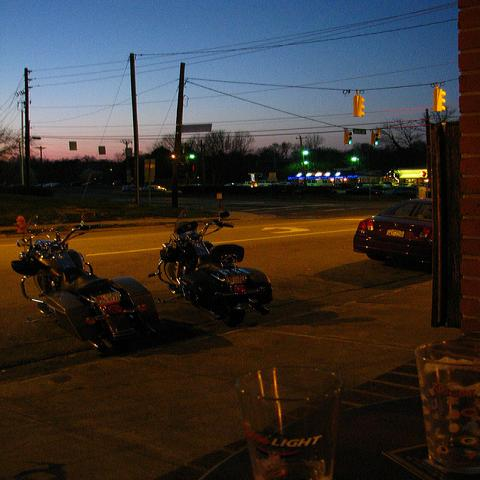car: (349, 198, 435, 270), (141, 184, 167, 192), (120, 184, 136, 192)
motorcycle: (5, 214, 163, 352), (149, 209, 276, 330)
